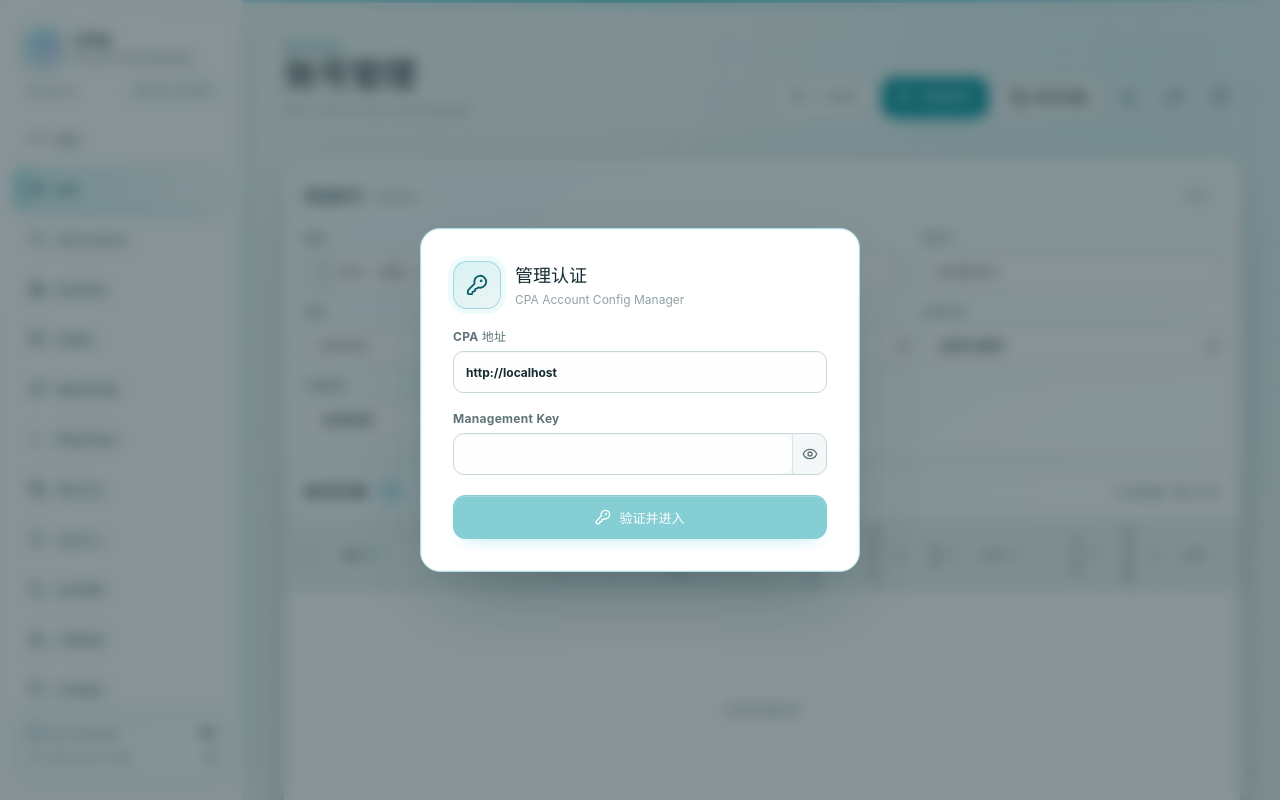
primary account batch flow › renders automatic disable reason and expected recovery in the account row
Step 1. Type "management-secret" into the password field labelled "Management Key" → {"x": 623, "y": 454}, box [454,434,792,474]
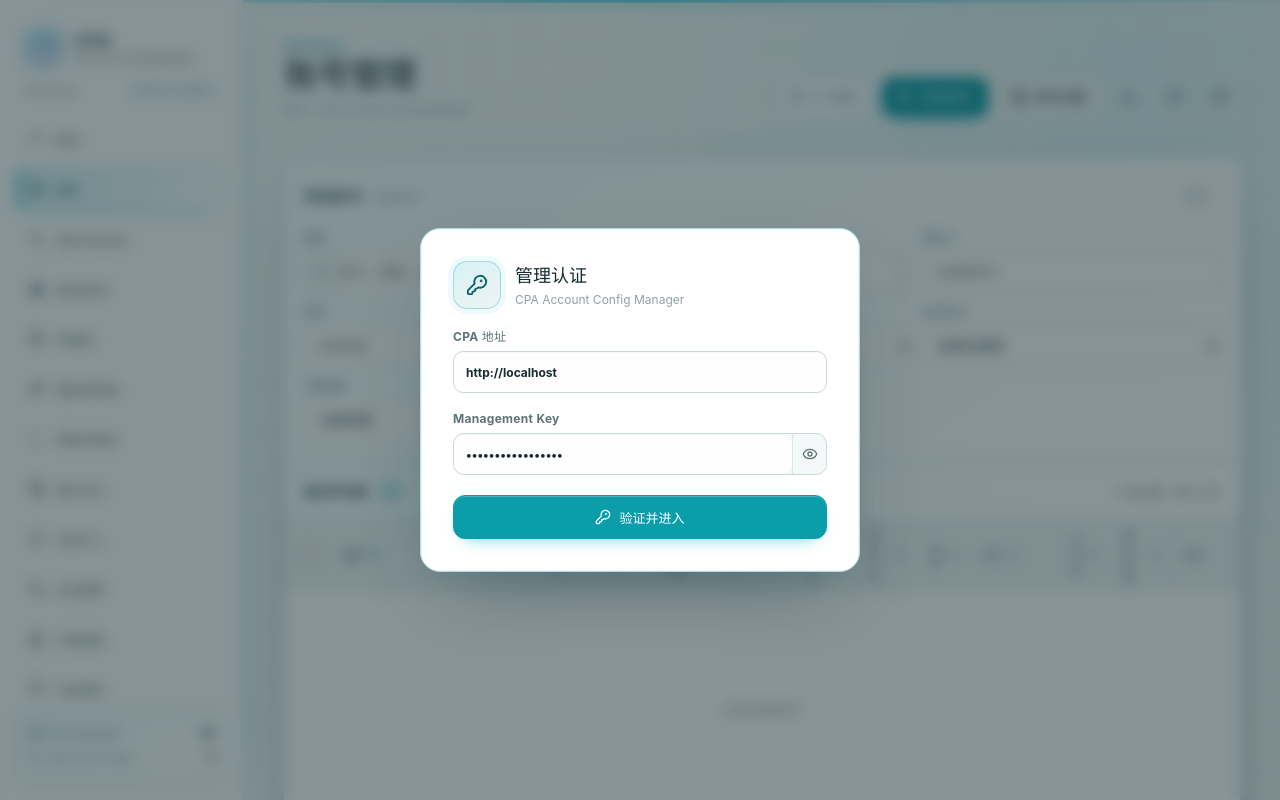
Step 2. Click the button "验证并进入" → {"x": 640, "y": 517}, box [453,495,827,539]
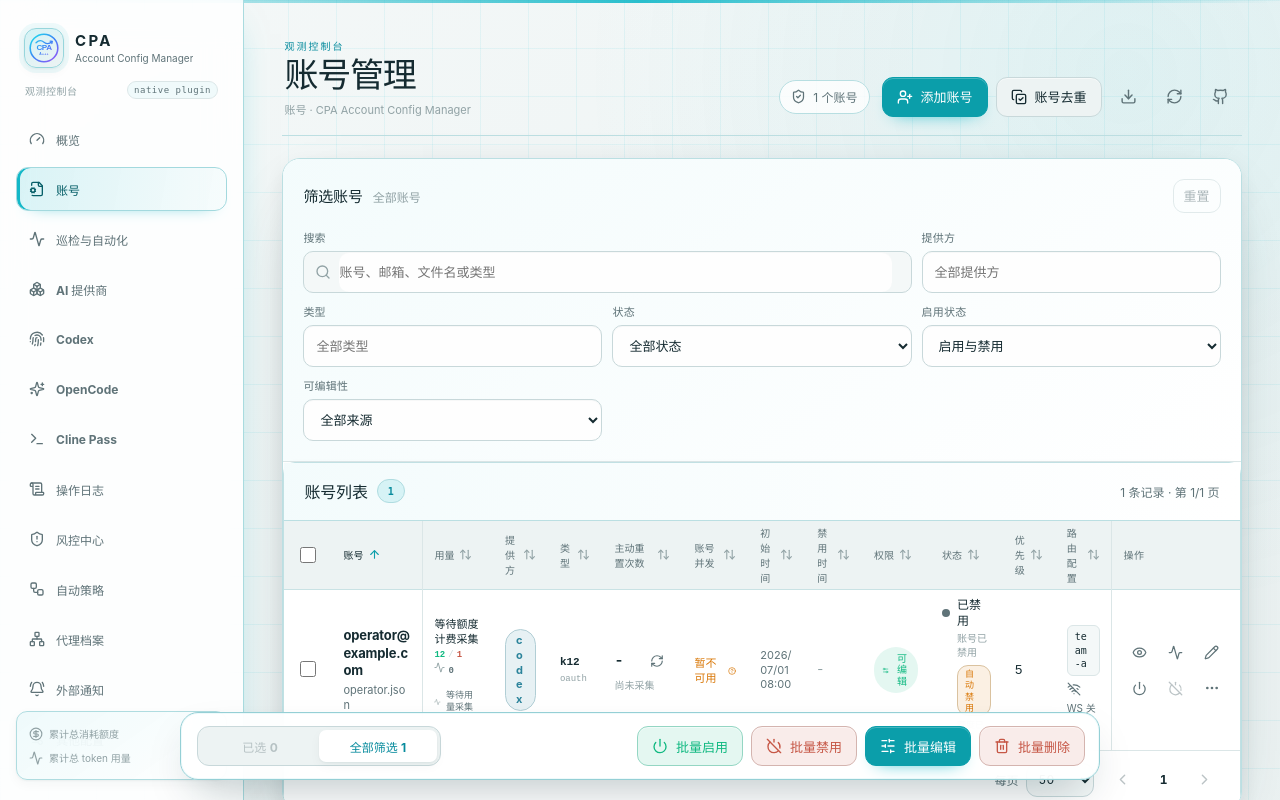
Expected: the text "自动禁用" is shown, [957,665,991,716]
Step 3. Click the button named "查看 operator@example.com" → {"x": 1140, "y": 652}, box [1124,636,1156,668]
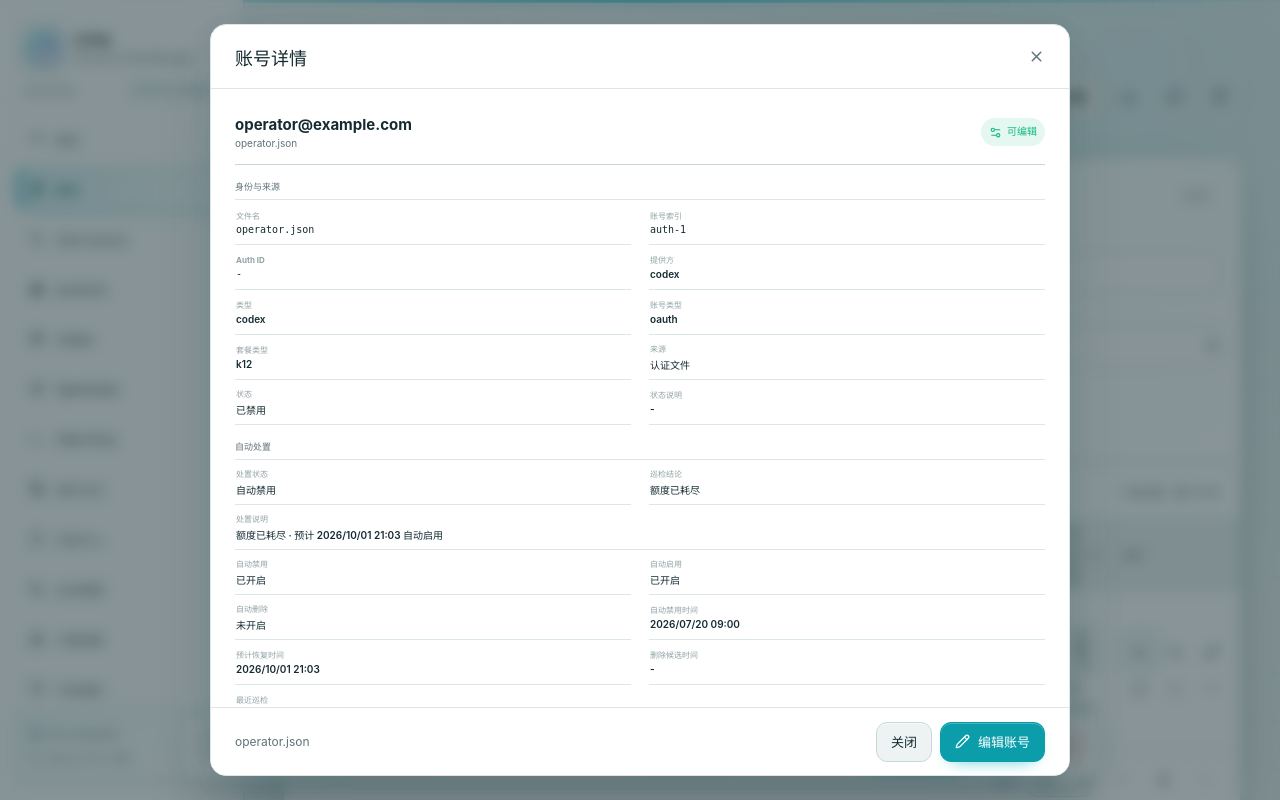
Expected: the heading "自动处置" is shown, [235,440,1045,460]
Expected: the text "自动禁用" below "处置状态" is shown, [236,484,276,496]
Expected: the text "额度已耗尽" is shown, [650,484,700,496]
